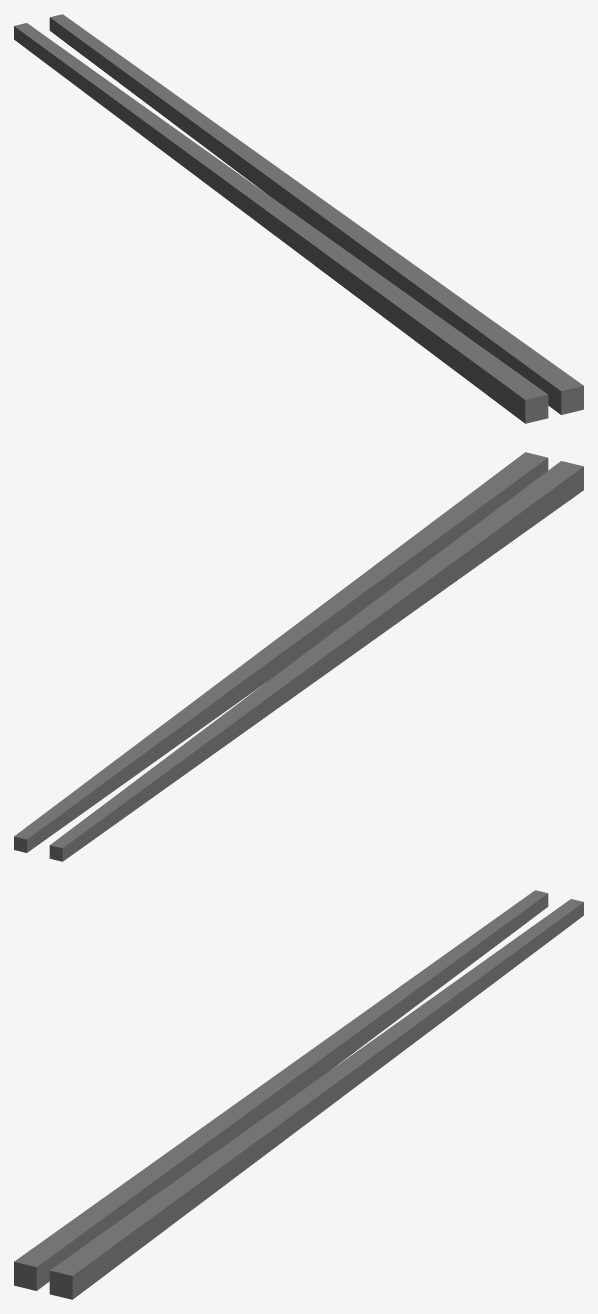
The model's file is Itr_Obj_Chopsticks_03.FBX.
3 views of the same model, one above another, from view 1: azimuth 30°, elevation 25°; view 2: azimuth 150°, elevation 25°; view 3: azimuth 330°, elevation 25° (orthographic).
Visible parts, largest first — view 1: Itr_Obj_Chopsticks_03; view 2: Itr_Obj_Chopsticks_03; view 3: Itr_Obj_Chopsticks_03.
Part boxes in pixels (left/top/right/bottom): Itr_Obj_Chopsticks_03: left=14, top=14, right=583, bottom=423; Itr_Obj_Chopsticks_03: left=14, top=452, right=583, bottom=861; Itr_Obj_Chopsticks_03: left=14, top=890, right=583, bottom=1299.
Size of the model in its own units: 0.286 by 0.1115 by 4.37.
